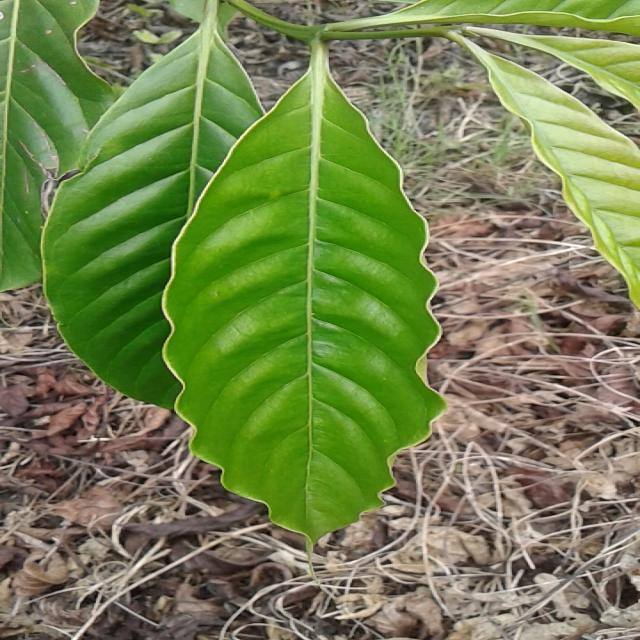Sanas: (161, 65, 445, 538)
